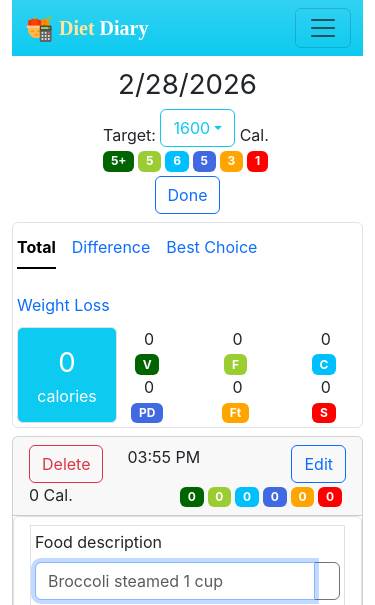
Test: Meal operations › Screen iphone-8 › delete a meal
Click the button "Delete": [67, 464] box left=29, top=445, right=104, bottom=483
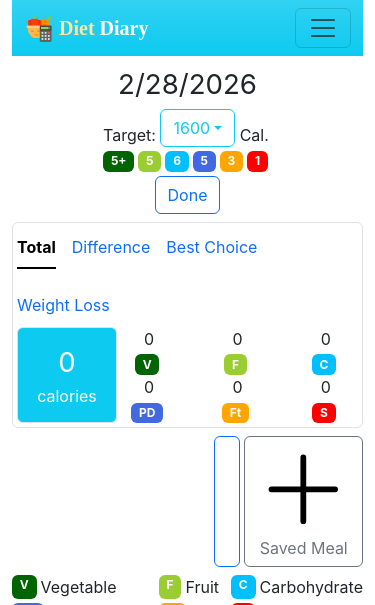
Expected: no elements with test id "mealCard" are shown
